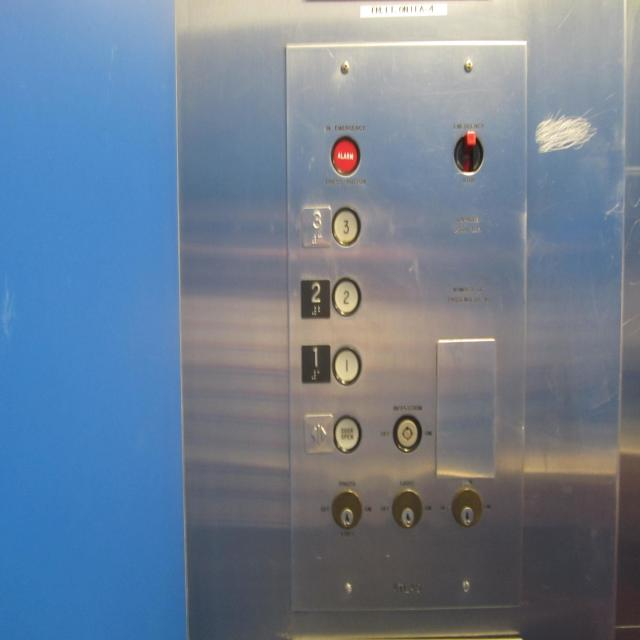1: (330, 343, 362, 386), (299, 344, 332, 385)
2: (330, 276, 362, 319), (299, 278, 330, 321)
3: (298, 204, 332, 250), (330, 205, 362, 248)
keyhole: (451, 487, 483, 529), (331, 489, 363, 530), (392, 488, 422, 531), (392, 414, 421, 452)
open: (302, 413, 334, 453)
text_alarm bell: (330, 134, 362, 178)
unknown: (450, 126, 486, 179), (332, 414, 362, 455)
